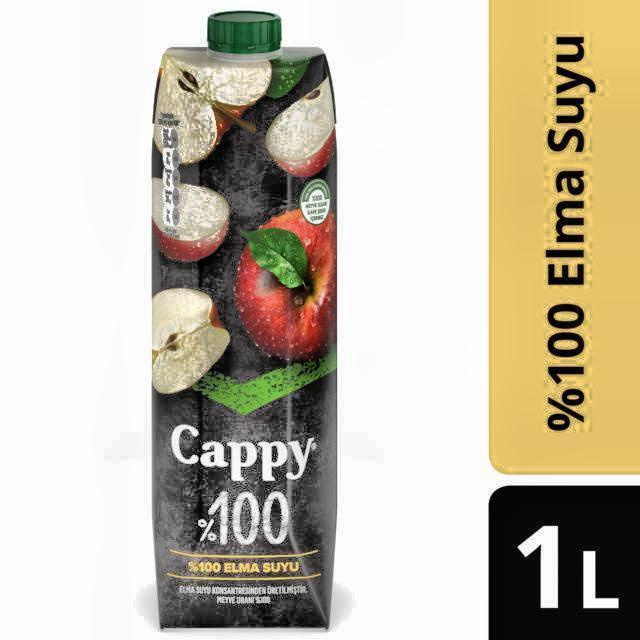cardboard: (149, 11, 338, 627)
